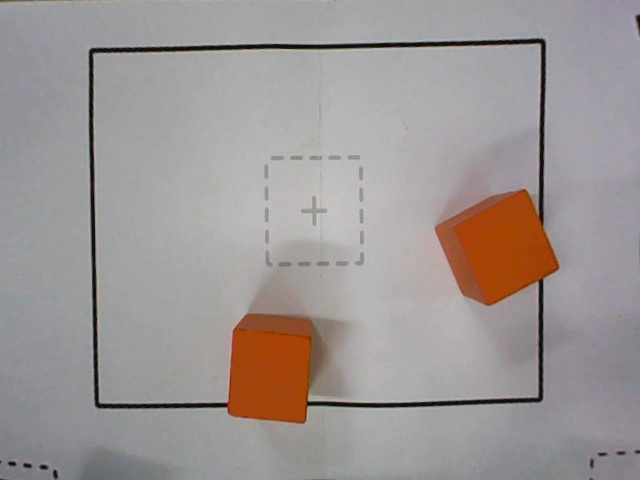upside of small cube: (453, 188, 560, 307), (228, 329, 312, 424)
